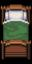Hide: (0, 3, 32, 60)
